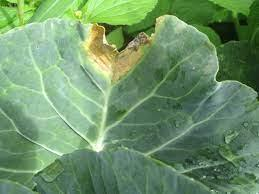Bok-Choy-Diseased: (0, 15, 219, 186)
